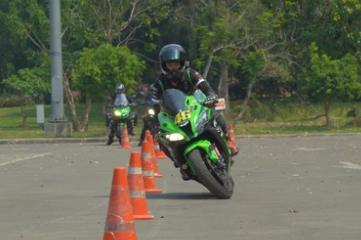front: (157, 94, 207, 196)
